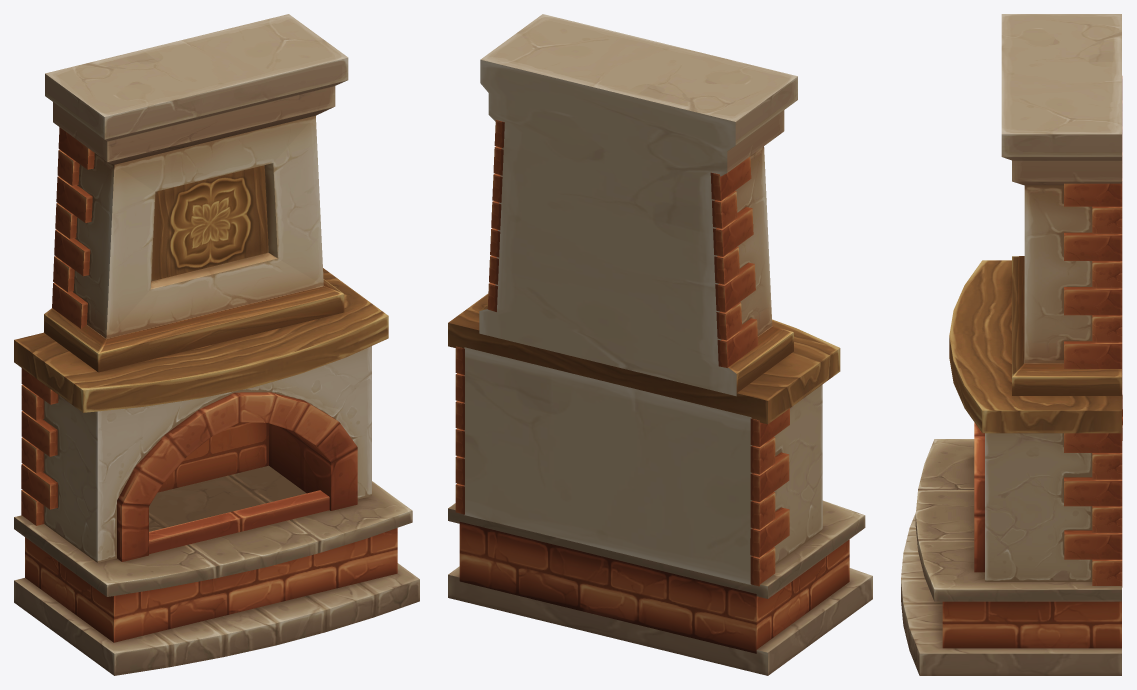
Rendered from Fireplace.FBX.
3 renders of one model, left to right at view 1: azimuth 30°, elevation 25°; view 2: azimuth 150°, elevation 25°; view 3: azimuth 270°, elevation 25°, orthographic. The views are drawn at different scales.
Parts seen in each view (by area): view 1: Fireplace; view 2: Fireplace; view 3: Fireplace.
Boxes of the visible parts, bbox=[...] form: Fireplace: bbox=[14, 14, 419, 675]; Fireplace: bbox=[448, 14, 872, 675]; Fireplace: bbox=[901, 14, 1122, 675].
Size of the model in its own units: 1400 by 2284 by 872.
